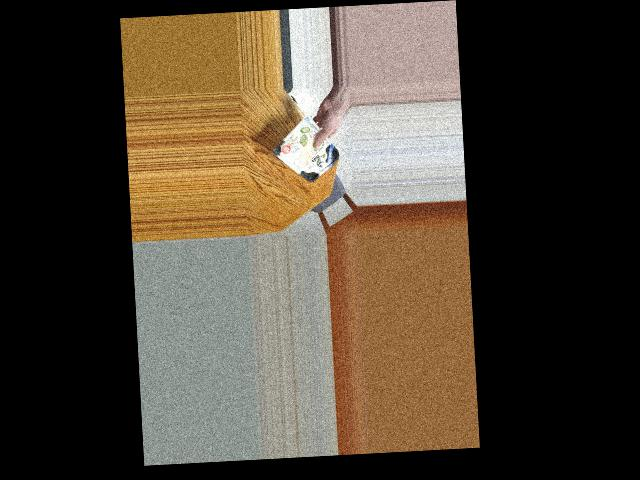cheese: (278, 134, 337, 175)
